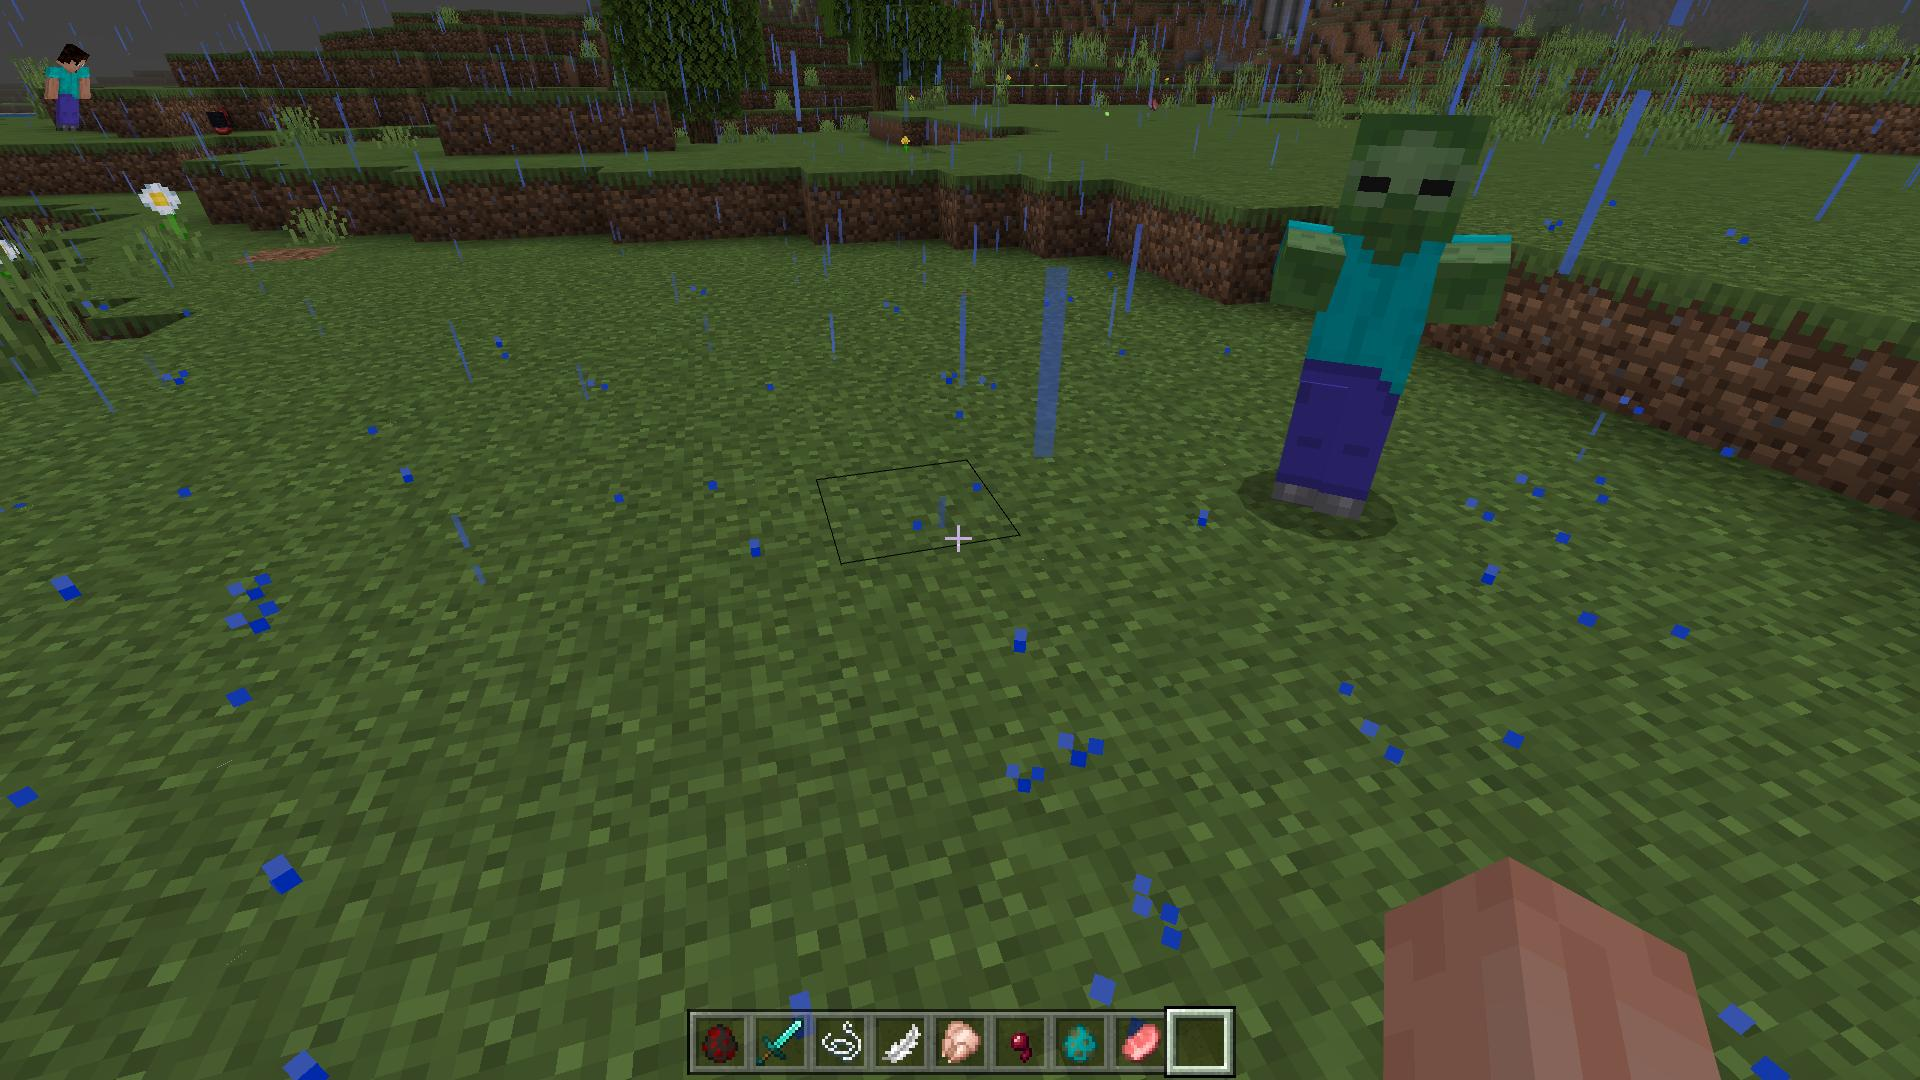zombie: (1265, 108, 1514, 524)
